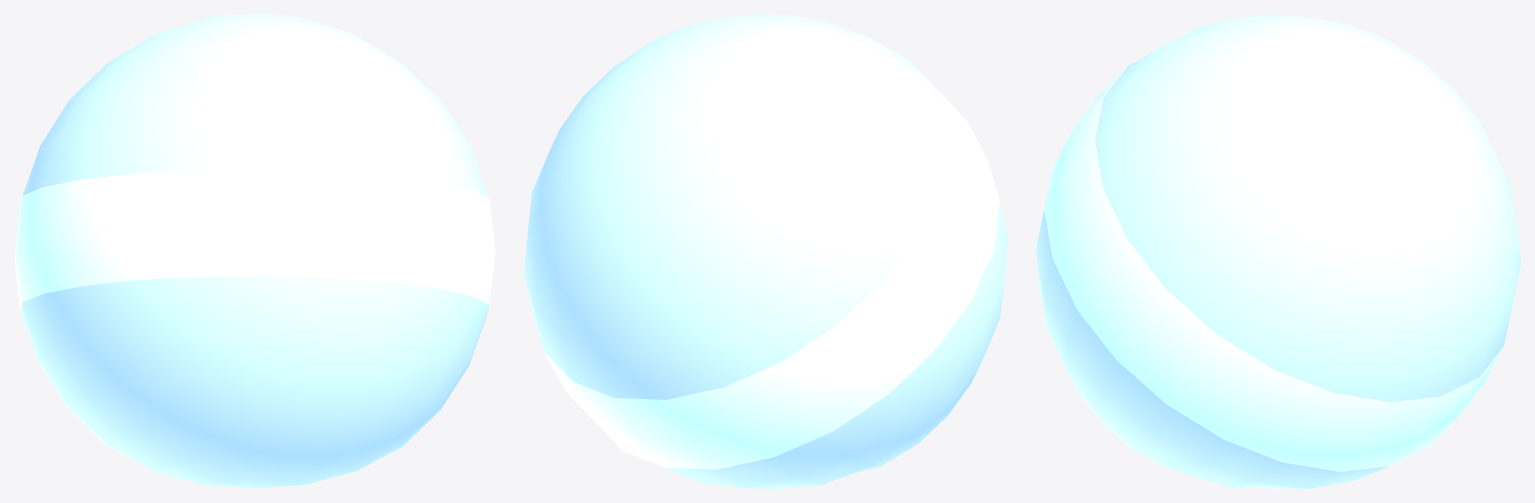
Rendered from props__YogaBall.glb.
The picture shows the model from 3 angles, left to right: view 1: azimuth 30°, elevation 25°; view 2: azimuth 150°, elevation 25°; view 3: azimuth 270°, elevation 25°; orthographic projection.
Parts seen in each view (by area): view 1: YogaBall; view 2: YogaBall; view 3: YogaBall.
Boxes of the visible parts, x1,y1,x2,y2 form: YogaBall: (14,14,495,488); YogaBall: (524,14,1007,488); YogaBall: (1036,14,1520,488).
Size of the model in its own units: 2.4 by 2.2 by 2.4.
